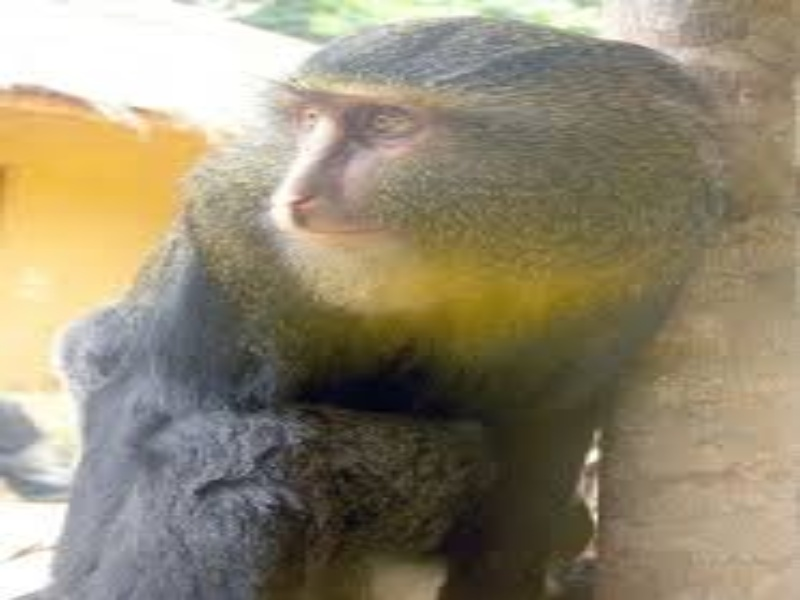monkey: (55, 8, 740, 559)
